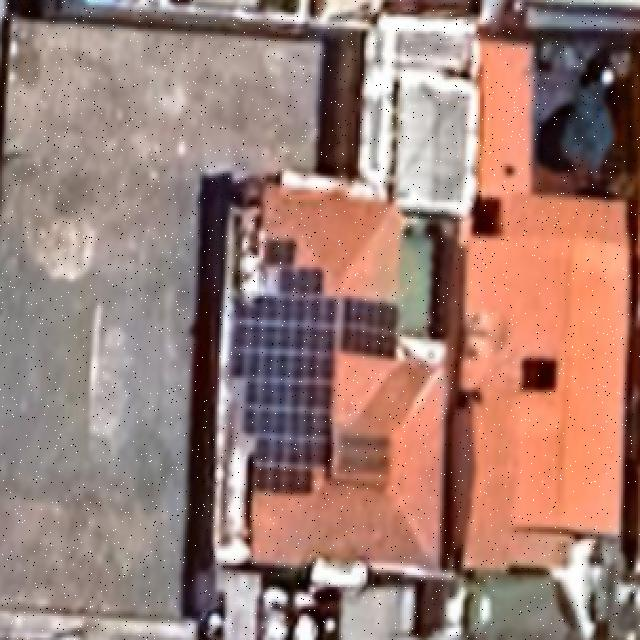painel: (227, 210, 414, 508)
